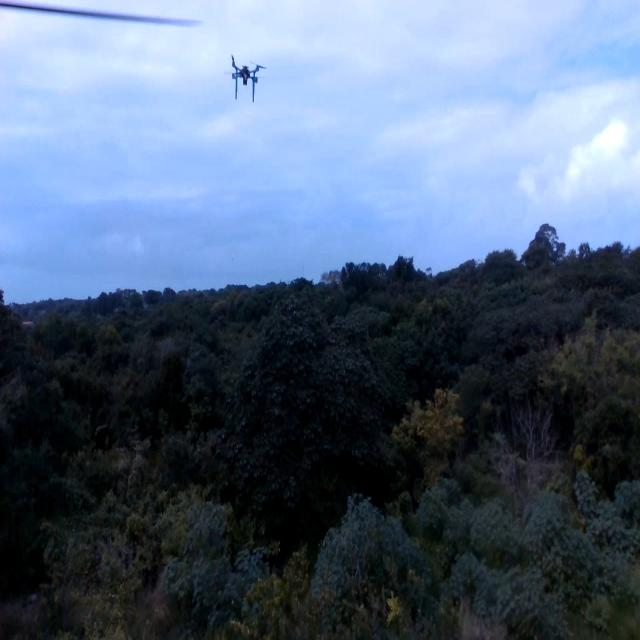-uav-: (218, 43, 272, 114)
